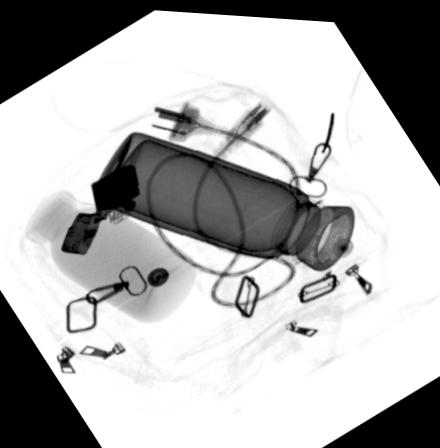Lighter: (58, 160, 139, 254)
